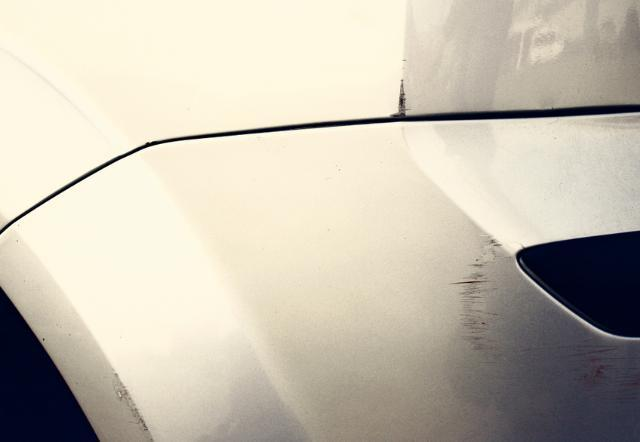Bumper: (325, 138, 640, 410)
Fender: (319, 18, 432, 118)
